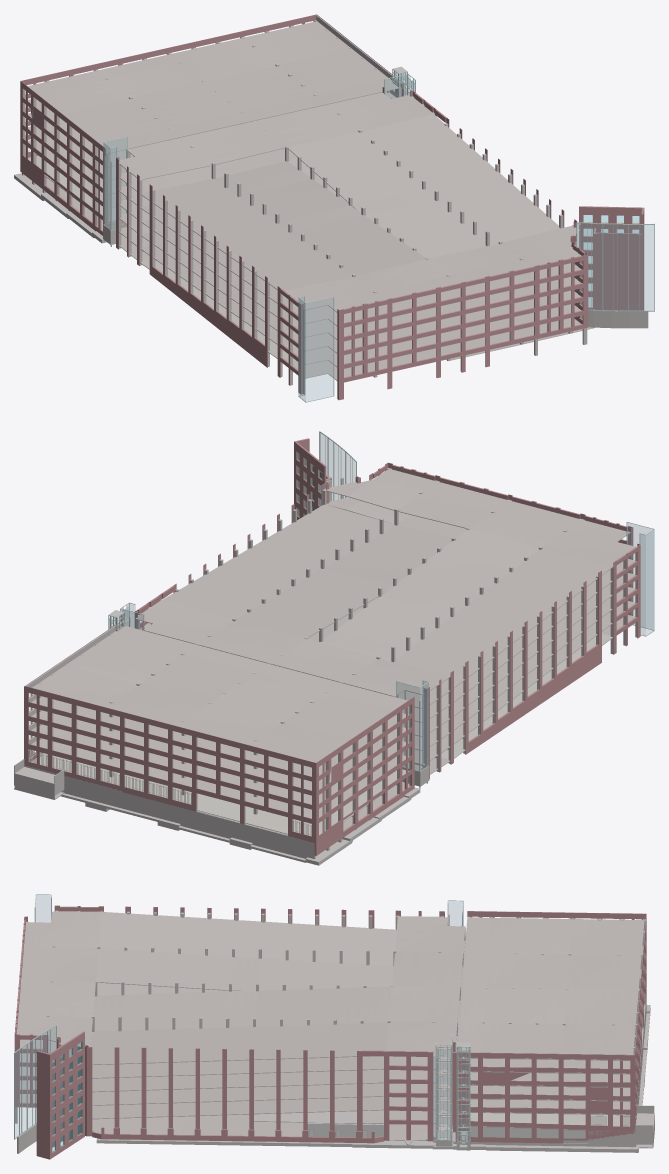
3 views of the same model, one above another, from view 1: azimuth 30°, elevation 25°; view 2: azimuth 150°, elevation 25°; view 3: azimuth 270°, elevation 25° (orthographic). The views are drawn at different scales.
Parts seen in each view (by area): view 1: 1Kfz5jpBHCXB9eeruXqHIb, 0c2stYNlTEjveY3LvhSHKI, 0c2stYNlTEjveY3LvhSHN_, 1Kfz5jpBHCXB9eeruXqHH1, 1Kfz5jpBHCXB9eeruXqHHX, 2Dllb4ndP5l8WDm214kUvk, 302LR4o954qwRBxpGktIB7, 2dSf0svjP7rhVlUcWVMVfy, 29OfwKliP91gPP679OM9Lb, 3aBc8vPuD59fXLtMAkX8ID, 0r3swWNLX8wOqJtIxuchx0, 3aBc8vPuD59fXLtMAkX8I7 (+23 smaller); view 2: 1Kfz5jpBHCXB9eeruXqHIb, 0c2stYNlTEjveY3LvhSHN_, 0c2stYNlTEjveY3LvhSHKI, 2Dllb4ndP5l8WDm214kU__, 1Kfz5jpBHCXB9eeruXqHHX, 1Kfz5jpBHCXB9eeruXqHH1, 0GjpF04mX1K8P$TdM8fU7l, 2Dllb4ndP5l8WDm214kUvk, 2_olzGh_jEMxTcpcwx1et6, 1Kfz5jpBHCXB9eeruXqHIz, 1Kfz5jpBHCXB9eeruXqHID, 0c2stYNlTEjveY3LvhSGYX (+17 smaller); view 3: 1Kfz5jpBHCXB9eeruXqHIb, 0c2stYNlTEjveY3LvhSHKI, 0c2stYNlTEjveY3LvhSHN_, 1Kfz5jpBHCXB9eeruXqHHX, 1Kfz5jpBHCXB9eeruXqHH1, 2Dllb4ndP5l8WDm214kUyq, 0VAEOgyk90AxIrZld_LBJb, 3BWObGKon43gv03_4OhP$A, 0c2stYNlTEjveY3LvhSHK2, 0c2stYNlTEjveY3LvhSHKA, 0c2stYNlTEjveY3LvhSHKw, 3yTjO8CpH8GR5SljxLVDxB (+40 smaller).
Part boxes in pixels (bbox=[...]): 1Kfz5jpBHCXB9eeruXqHIb: bbox=[28, 21, 400, 153]; 0c2stYNlTEjveY3LvhSHKI: bbox=[287, 114, 559, 258]; 0c2stYNlTEjveY3LvhSHN_: bbox=[140, 161, 425, 290]; 1Kfz5jpBHCXB9eeruXqHH1: bbox=[119, 92, 433, 179]; 1Kfz5jpBHCXB9eeruXqHHX: bbox=[284, 225, 582, 313]; 2Dllb4ndP5l8WDm214kUvk: bbox=[20, 81, 105, 207]; 302LR4o954qwRBxpGktIB7: bbox=[597, 232, 637, 310]; 2dSf0svjP7rhVlUcWVMVfy: bbox=[306, 298, 333, 401]; 29OfwKliP91gPP679OM9Lb: bbox=[284, 318, 583, 382]; 3aBc8vPuD59fXLtMAkX8ID: bbox=[284, 241, 582, 327]; 0r3swWNLX8wOqJtIxuchx0: bbox=[284, 304, 581, 368]; 3aBc8vPuD59fXLtMAkX8I7: bbox=[284, 277, 582, 341]; 1Kfz5jpBHCXB9eeruXqHIb: bbox=[32, 626, 407, 762]; 0c2stYNlTEjveY3LvhSHN_: bbox=[320, 529, 612, 689]; 0c2stYNlTEjveY3LvhSHKI: bbox=[163, 504, 451, 637]; 2Dllb4ndP5l8WDm214kU__: bbox=[24, 686, 316, 824]; 1Kfz5jpBHCXB9eeruXqHHX: bbox=[324, 468, 635, 565]; 1Kfz5jpBHCXB9eeruXqHH1: bbox=[136, 600, 450, 696]; 0GjpF04mX1K8P$TdM8fU7l: bbox=[40, 770, 315, 859]; 2Dllb4ndP5l8WDm214kUvk: bbox=[316, 696, 414, 823]; 2_olzGh_jEMxTcpcwx1et6: bbox=[31, 753, 408, 835]; 1Kfz5jpBHCXB9eeruXqHIz: bbox=[31, 696, 408, 776]; 1Kfz5jpBHCXB9eeruXqHID: bbox=[31, 724, 408, 804]; 0c2stYNlTEjveY3LvhSGYX: bbox=[31, 738, 408, 818]; 1Kfz5jpBHCXB9eeruXqHIb: bbox=[456, 917, 644, 1054]; 0c2stYNlTEjveY3LvhSHKI: bbox=[91, 986, 391, 1064]; 0c2stYNlTEjveY3LvhSHN_: bbox=[96, 912, 396, 990]; 1Kfz5jpBHCXB9eeruXqHHX: bbox=[16, 911, 101, 1046]; 1Kfz5jpBHCXB9eeruXqHH1: bbox=[386, 916, 465, 1055]; 2Dllb4ndP5l8WDm214kUyq: bbox=[452, 1052, 635, 1114]; 0VAEOgyk90AxIrZld_LBJb: bbox=[92, 1114, 454, 1141]; 3BWObGKon43gv03_4OhP$A: bbox=[92, 1096, 383, 1119]; 0c2stYNlTEjveY3LvhSHK2: bbox=[92, 1069, 383, 1092]; 0c2stYNlTEjveY3LvhSHKA: bbox=[92, 1056, 383, 1078]; 0c2stYNlTEjveY3LvhSHKw: bbox=[92, 1083, 383, 1105]; 3yTjO8CpH8GR5SljxLVDxB: bbox=[48, 1031, 84, 1159].
Size of the model in its own units: 80.53 by 25.6 by 131.
